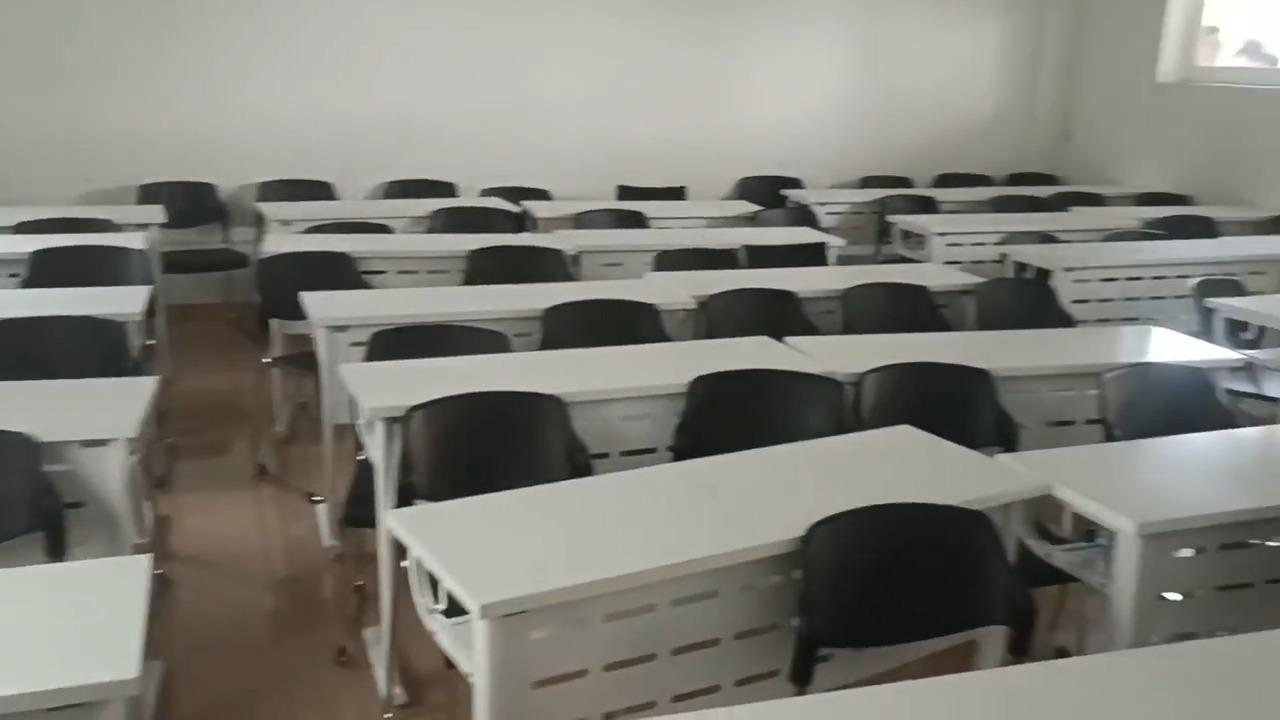chair: (795, 503, 1039, 691), (255, 250, 376, 485), (410, 392, 589, 499), (860, 362, 1026, 455), (677, 380, 845, 464), (143, 182, 246, 299), (1107, 364, 1244, 445), (1, 429, 63, 556), (0, 321, 129, 380), (538, 296, 669, 352), (837, 281, 954, 338), (694, 288, 822, 340), (14, 247, 153, 288), (367, 322, 515, 358), (975, 280, 1075, 329), (464, 248, 575, 287), (428, 206, 522, 235), (739, 243, 831, 272), (735, 172, 807, 208), (256, 179, 338, 204), (1147, 218, 1219, 245), (657, 250, 738, 273), (1194, 280, 1258, 309), (382, 176, 462, 198), (10, 221, 126, 236), (573, 207, 646, 230), (309, 224, 396, 242), (1103, 227, 1166, 251), (988, 191, 1051, 213), (885, 192, 937, 218), (616, 181, 683, 201), (1136, 188, 1191, 209), (756, 207, 814, 226), (1051, 190, 1101, 210), (993, 233, 1063, 247), (937, 173, 996, 189), (480, 187, 555, 199), (865, 175, 914, 191), (1008, 174, 1056, 183)
table: (384, 426, 1045, 612), (1008, 426, 1279, 650), (345, 337, 816, 413), (0, 377, 163, 554), (994, 232, 1279, 322), (782, 327, 1239, 379), (3, 557, 163, 695), (299, 275, 698, 327), (653, 262, 984, 299), (255, 232, 576, 258), (563, 224, 843, 251), (897, 209, 1148, 239), (259, 194, 518, 221), (1199, 292, 1279, 373), (522, 198, 767, 217), (779, 186, 1051, 202), (4, 291, 155, 319), (1093, 205, 1279, 226), (5, 203, 169, 224), (2, 231, 149, 253), (1020, 182, 1179, 199)
